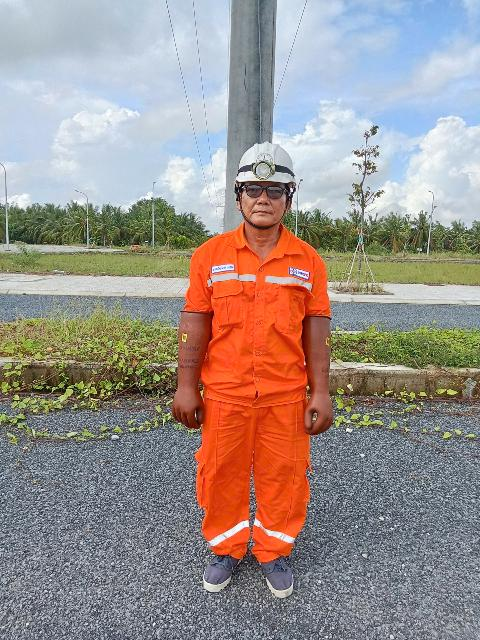gloves: (151, 311, 220, 442), (283, 306, 346, 434)
helmet: (223, 127, 304, 197)
shoes: (193, 538, 248, 610), (241, 545, 300, 604)
